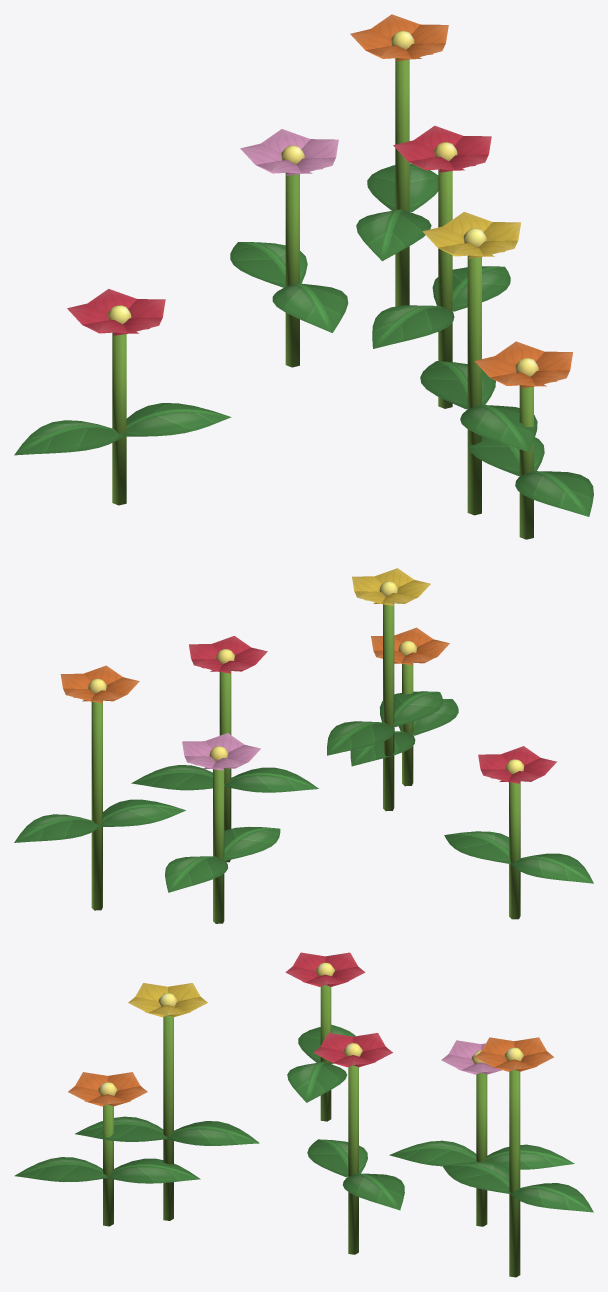
Rendered from flower_patch.glb.
3 renders of one model, top to bottom at view 1: azimuth 30°, elevation 25°; view 2: azimuth 150°, elevation 25°; view 3: azimuth 270°, elevation 25°, orthographic. The views are drawn at different scales.
Visible parts, largest first — view 1: Flowers_leaf; view 2: Flowers_leaf; view 3: Flowers_leaf.
Boxes of the visible parts, box(x1,y1,x2,y2) form: Flowers_leaf: box(14, 14, 593, 539); Flowers_leaf: box(14, 568, 593, 923); Flowers_leaf: box(14, 952, 593, 1277).
Size of the model in its own units: 1.03 by 0.5011 by 1.16.
Materials: 1 (1 with a texture image).
